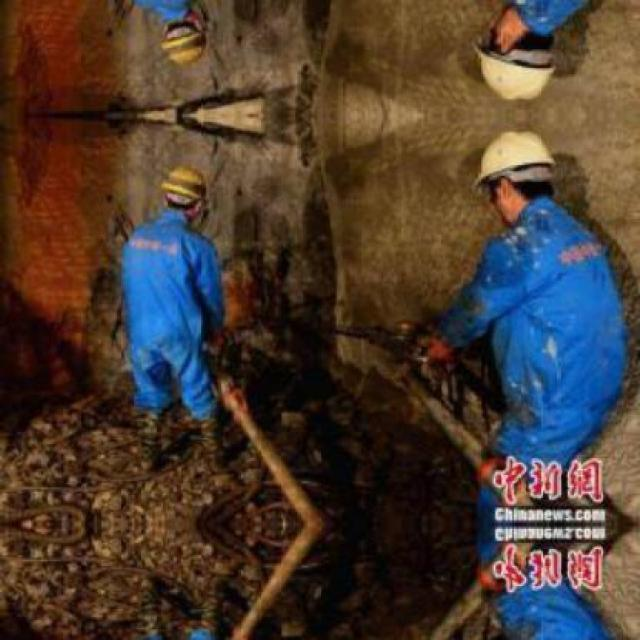hat: (460, 124, 562, 198), (154, 153, 217, 209)
